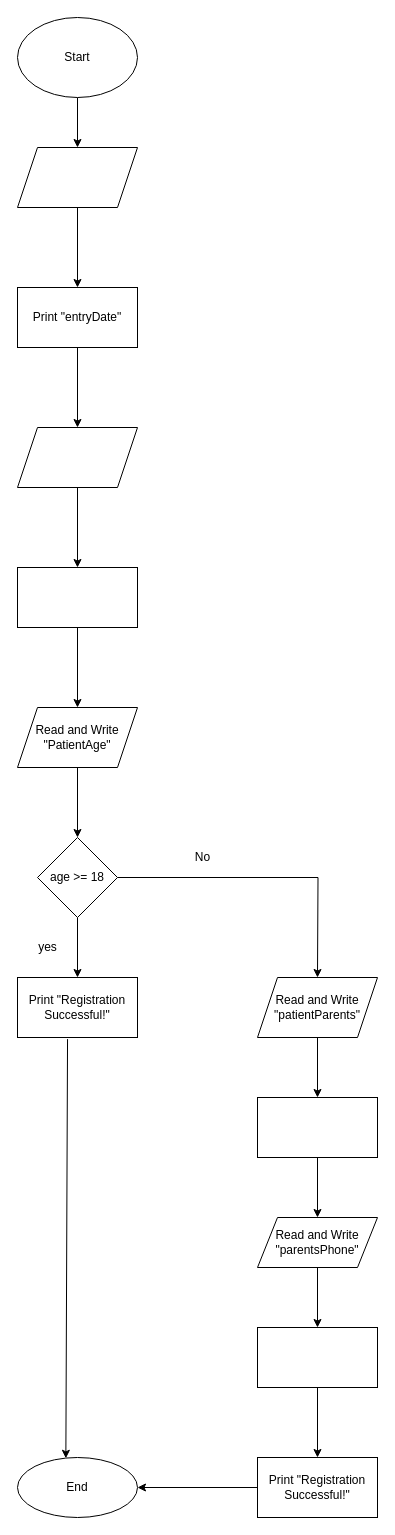
This 395x1535 diagram has some shape labels left out. The centre of each missing label's shape, as x and y in pixels:
Print "parentsPhone": (x=317, y=1357)
Print "PatientName": (x=77, y=597)
Print "patientParents": (x=317, y=1127)
Read and Write "entryDate": (x=77, y=177)
Read and Write "patientName": (x=77, y=457)
